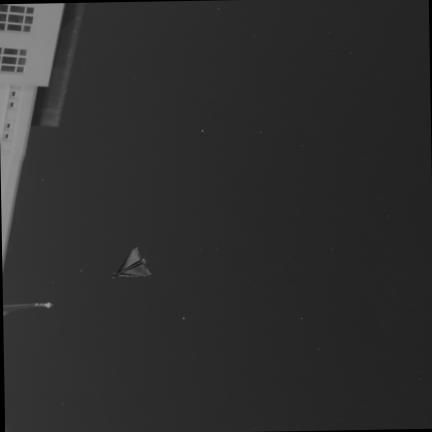Shahed: (112, 248, 149, 277)
